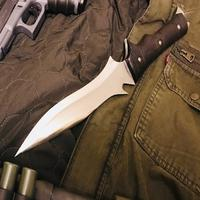knife: (13, 11, 184, 160)
